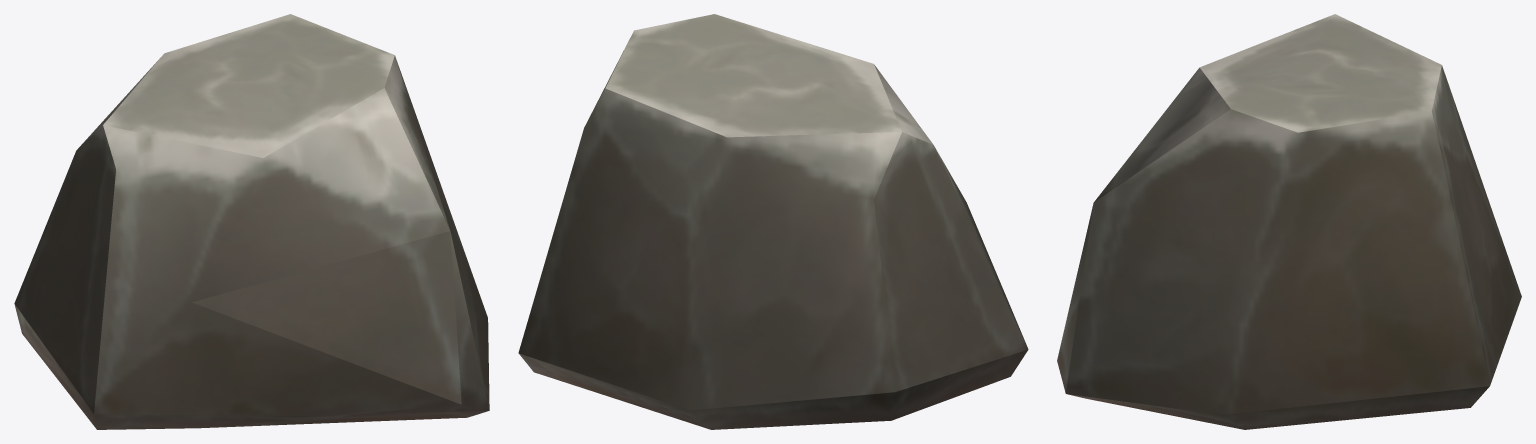
The model's file is ROCK 1.fbx.
3 views of the same model, side by side, from view 1: azimuth 30°, elevation 25°; view 2: azimuth 150°, elevation 25°; view 3: azimuth 270°, elevation 25° (orthographic). The views are drawn at different scales.
Visible parts, largest first — view 1: SM_Rocks_07; view 2: SM_Rocks_07; view 3: SM_Rocks_07.
Boxes of the visible parts, x1,y1,x2,y2 form: SM_Rocks_07: [14, 14, 489, 429]; SM_Rocks_07: [518, 14, 1028, 429]; SM_Rocks_07: [1057, 14, 1521, 429].
Size of the model in its own units: 57.49 by 40.96 by 57.71.
1 material, 1 textured.
